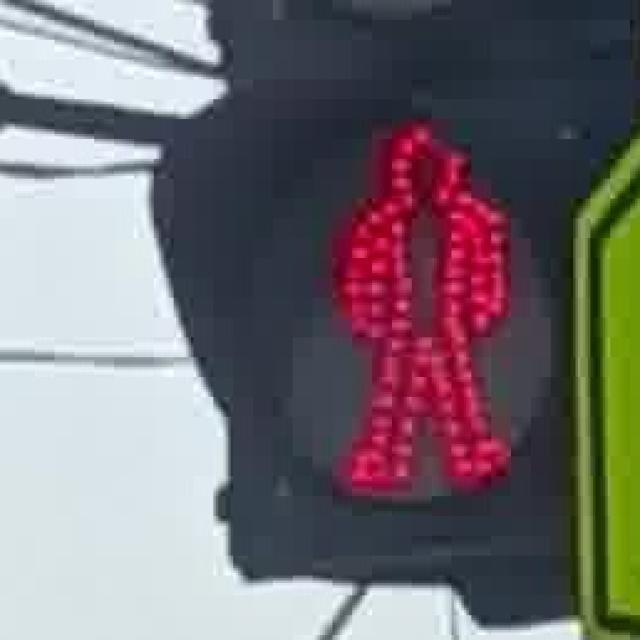red-crossing: (300, 96, 524, 502)
